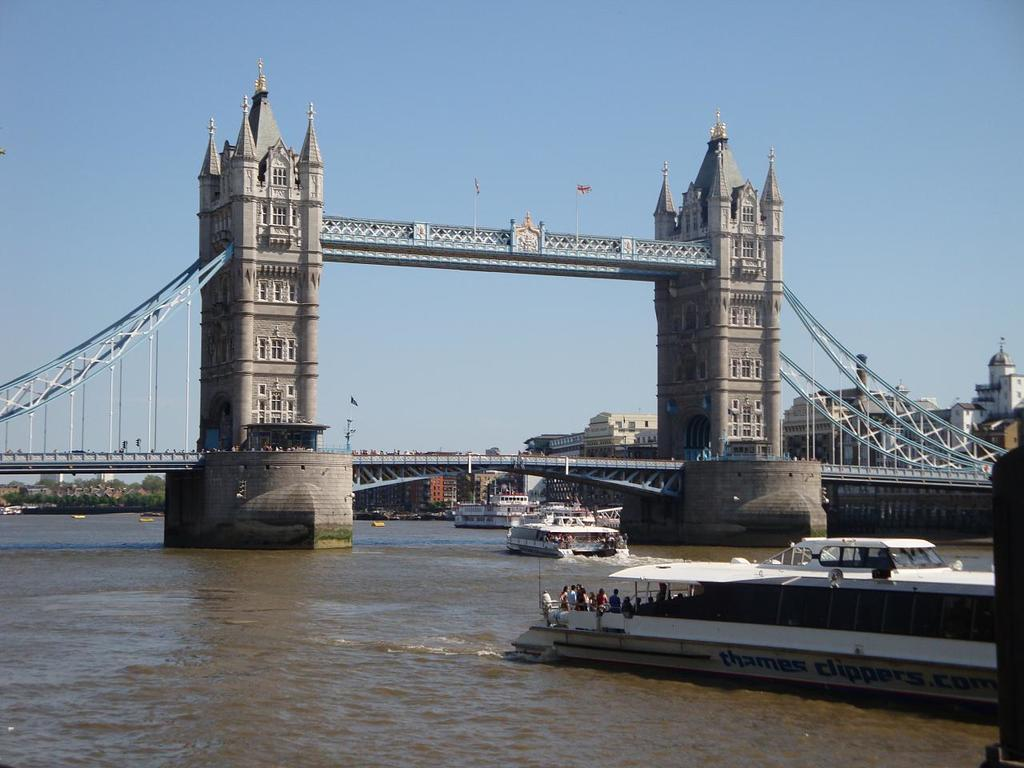PassengerShip: (514, 536, 1024, 698), (506, 502, 626, 562), (452, 493, 542, 530)
